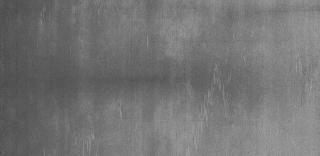silk spot: (182, 59, 230, 137), (288, 52, 312, 100), (94, 97, 136, 123), (66, 124, 94, 154)
